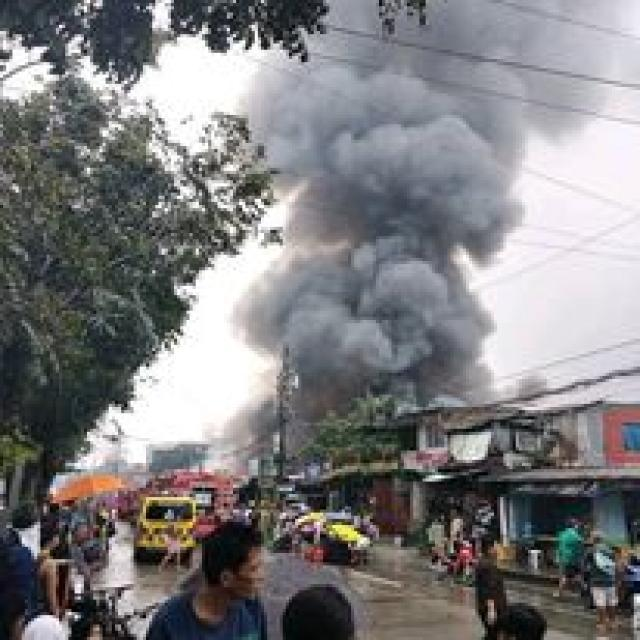Smoke: (268, 37, 504, 360), (438, 3, 634, 142)
